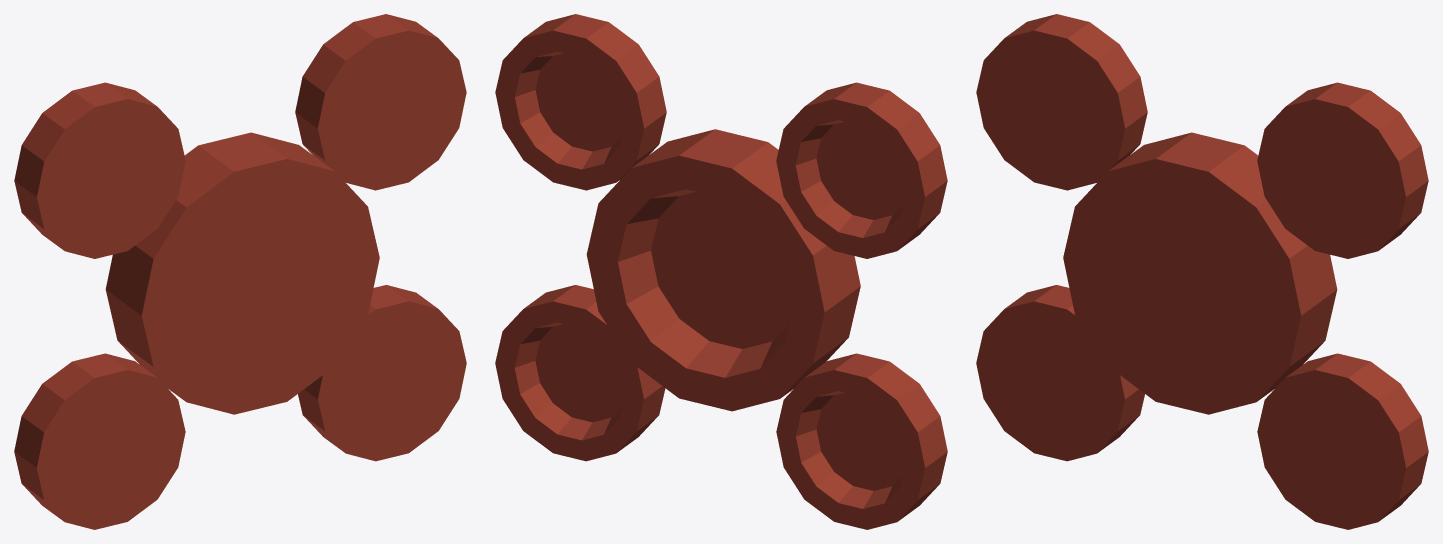
The model's file is Dropship_04_Thruster_Joints_Red.fbx.
The picture shows the model from 3 angles, left to right: view 1: azimuth 30°, elevation 25°; view 2: azimuth 150°, elevation 25°; view 3: azimuth 330°, elevation 25°; orthographic projection.
Parts seen in each view (by area): view 1: Dropship_04_Thruster_Joints_Red; view 2: Dropship_04_Thruster_Joints_Red; view 3: Dropship_04_Thruster_Joints_Red.
Part boxes in pixels (x1,y1,x2,y2): Dropship_04_Thruster_Joints_Red: (14,14,466,529); Dropship_04_Thruster_Joints_Red: (495,14,947,529); Dropship_04_Thruster_Joints_Red: (976,14,1428,529).
Bounding box in the file's own units: 289 × 271 × 42.
Materials: 1 (1 with a texture image).
